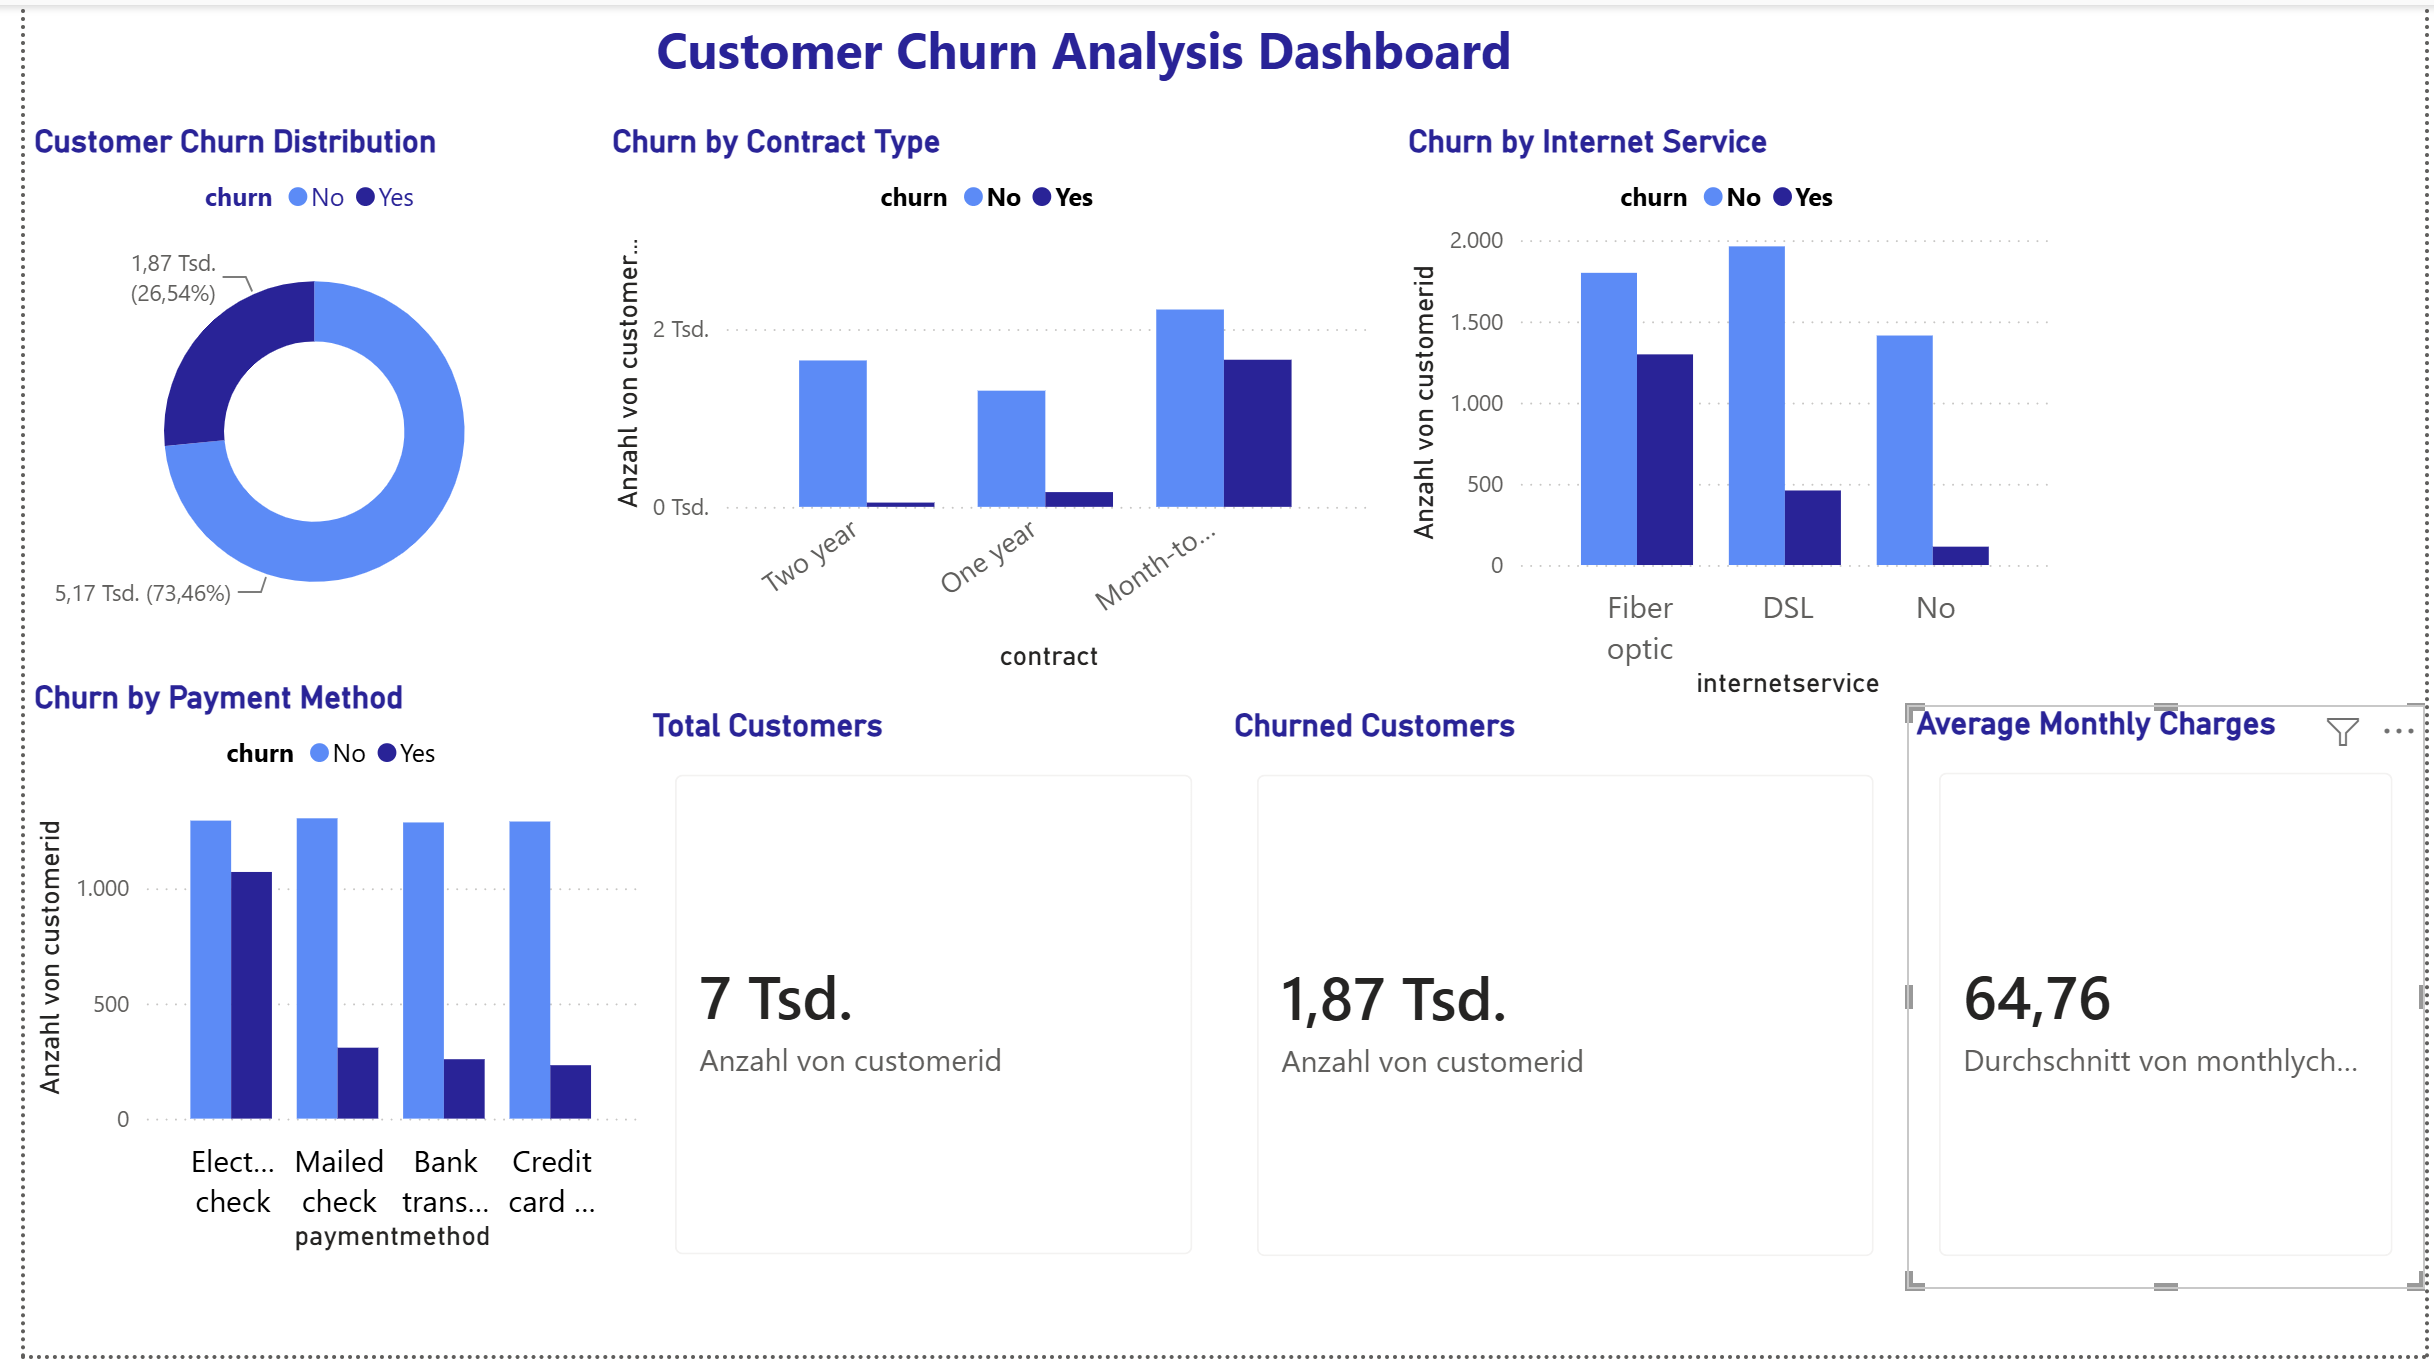

Layout of this report page (visuals, bound fields, positions):
{"tool":"powerbi","page":{"name":"Seite 1","canvas":[1280,720],"ordinal":0},"visuals":[{"type":"donutChart","title":"Customer Churn Distribution","fields":{"Category":["public customer_churn.churn"],"Y":["CountNonNull(public customer_churn.customerid)"]},"box":[0,62.5,308.5,280.5],"z":0},{"type":"clusteredColumnChart","title":"Churn by Contract Type","fields":{"Category":["public customer_churn.contract"],"Y":["Count(public customer_churn.customerid)"],"Series":["public customer_churn.churn"]},"box":[308.5,62.5,414.3,297.1],"z":1000},{"type":"clusteredColumnChart","title":"Churn by Internet Service","fields":{"Category":["public customer_churn.internetservice"],"Y":["Count(public customer_churn.customerid)"],"Series":["public customer_churn.churn"]},"box":[733.1,62.5,354.4,311.1],"z":2000},{"type":"clusteredColumnChart","title":"Churn by Payment Method","fields":{"Category":["public customer_churn.paymentmethod"],"Y":["CountNonNull(public customer_churn.customerid)"],"Series":["public customer_churn.churn"]},"box":[0,359.5,331.5,309.8],"z":3000},{"type":"textbox","box":[331.5,0,513.8,62.5],"z":4000},{"type":"cardVisual","title":"Total Customers","fields":{"Data":["CountNonNull(public customer_churn.customerid)"]},"box":[329.6,374.4,310.4,309.3],"z":5000},{"type":"cardVisual","title":"Churned Customers","fields":{"Data":["CountNonNull(public customer_churn.customerid)"]},"box":[640,374.4,363.7,310.4],"z":6000},{"type":"cardVisual","title":"Average Monthly Charges","fields":{"Data":["Avg(public customer_churn.monthlycharges)"]},"box":[1003.7,373.3,276.3,311.5],"z":6001}]}

Visuals, with their boxes in screenshot pixels (x1, y1, x2, y2), scaled from the page's 1280x720 canvas onto the 2434x1362 screenshot:
"Customer Churn Distribution" donutChart: Rect(0, 118, 587, 649)
"Churn by Contract Type" clusteredColumnChart: Rect(587, 118, 1374, 680)
"Churn by Internet Service" clusteredColumnChart: Rect(1394, 118, 2068, 707)
"Churn by Payment Method" clusteredColumnChart: Rect(0, 680, 630, 1266)
textbox: Rect(630, 0, 1607, 118)
"Total Customers" cardVisual: Rect(627, 708, 1217, 1293)
"Churned Customers" cardVisual: Rect(1217, 708, 1909, 1295)
"Average Monthly Charges" cardVisual: Rect(1909, 706, 2433, 1295)
